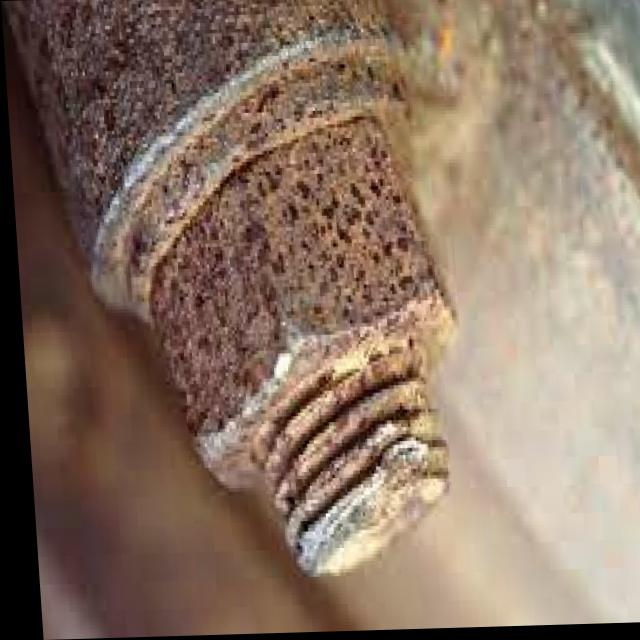Rusty bolt: (143, 154, 459, 515)
